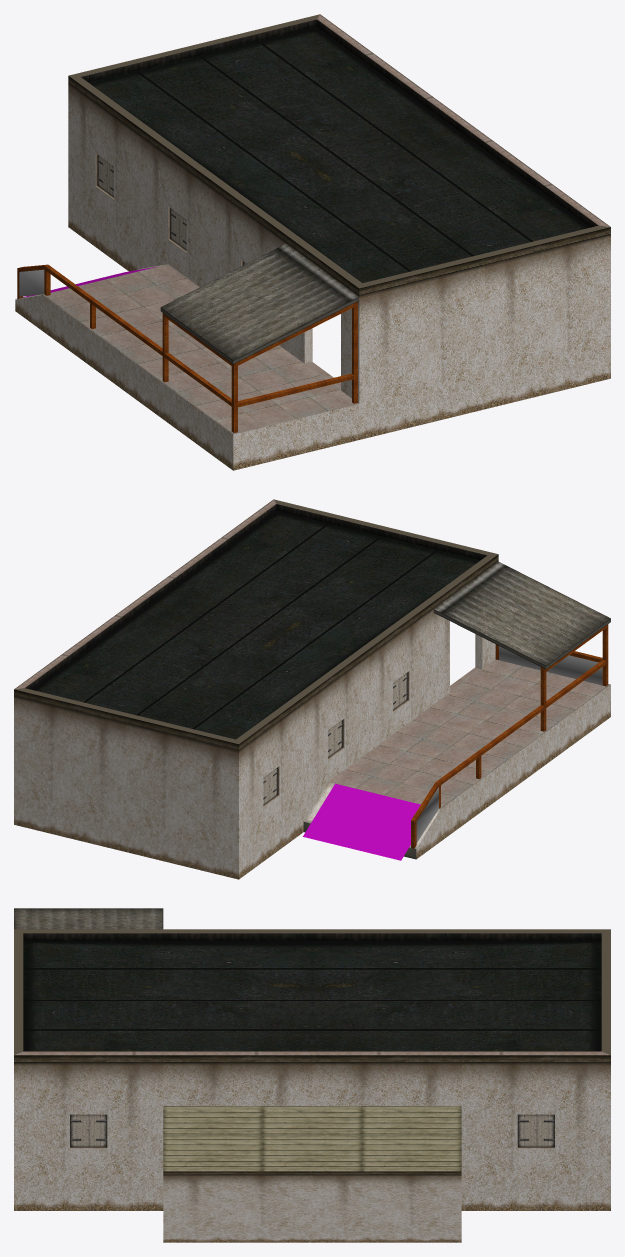
Rendered from Mission1_GuardHouse_Exterior.glb.
The picture shows the model from 3 angles, top to bottom: view 1: azimuth 30°, elevation 25°; view 2: azimuth 150°, elevation 25°; view 3: azimuth 270°, elevation 25°; orthographic projection. The views are drawn at different scales.
Visible parts, largest first — view 1: MISSION1_GUARDHOUSE_EXTERIOR; view 2: MISSION1_GUARDHOUSE_EXTERIOR; view 3: MISSION1_GUARDHOUSE_EXTERIOR.
Part boxes in pixels (x1,y1,x2,y2): MISSION1_GUARDHOUSE_EXTERIOR: [15, 14, 610, 470]; MISSION1_GUARDHOUSE_EXTERIOR: [14, 499, 610, 879]; MISSION1_GUARDHOUSE_EXTERIOR: [14, 908, 610, 1242].
Bounding box in the file's own units: 14 × 4.6 × 16.
14 materials, 13 textured.
